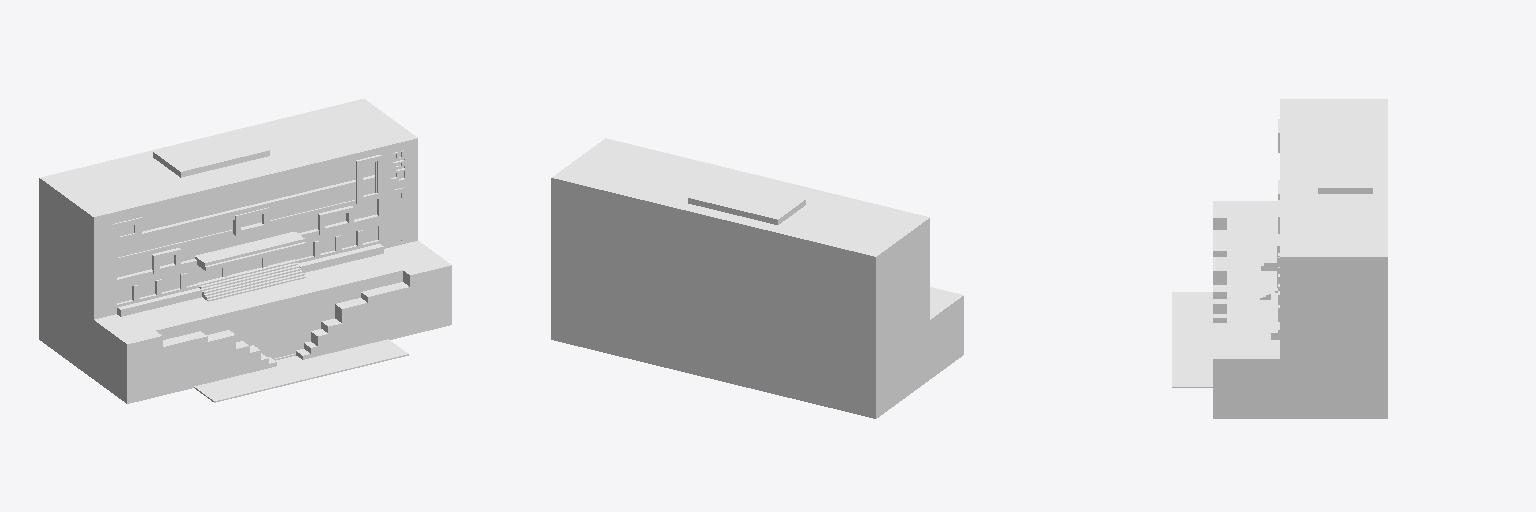
File: 인문경상관.obj
The picture shows the model from 3 angles: view 1: azimuth 30°, elevation 25°; view 2: azimuth 150°, elevation 25°; view 3: azimuth 270°, elevation 25°; orthographic projection.
Parts seen in each view (by area): view 1: object 1; view 2: object 1; view 3: object 1.
Boxes of the visible parts, box(x1,y1,x2,y2) form: object 1: box(39, 99, 451, 403); object 1: box(551, 138, 963, 418); object 1: box(1172, 99, 1387, 418).
Bounding box in the file's own units: 23.9 × 11.8 × 13.8.